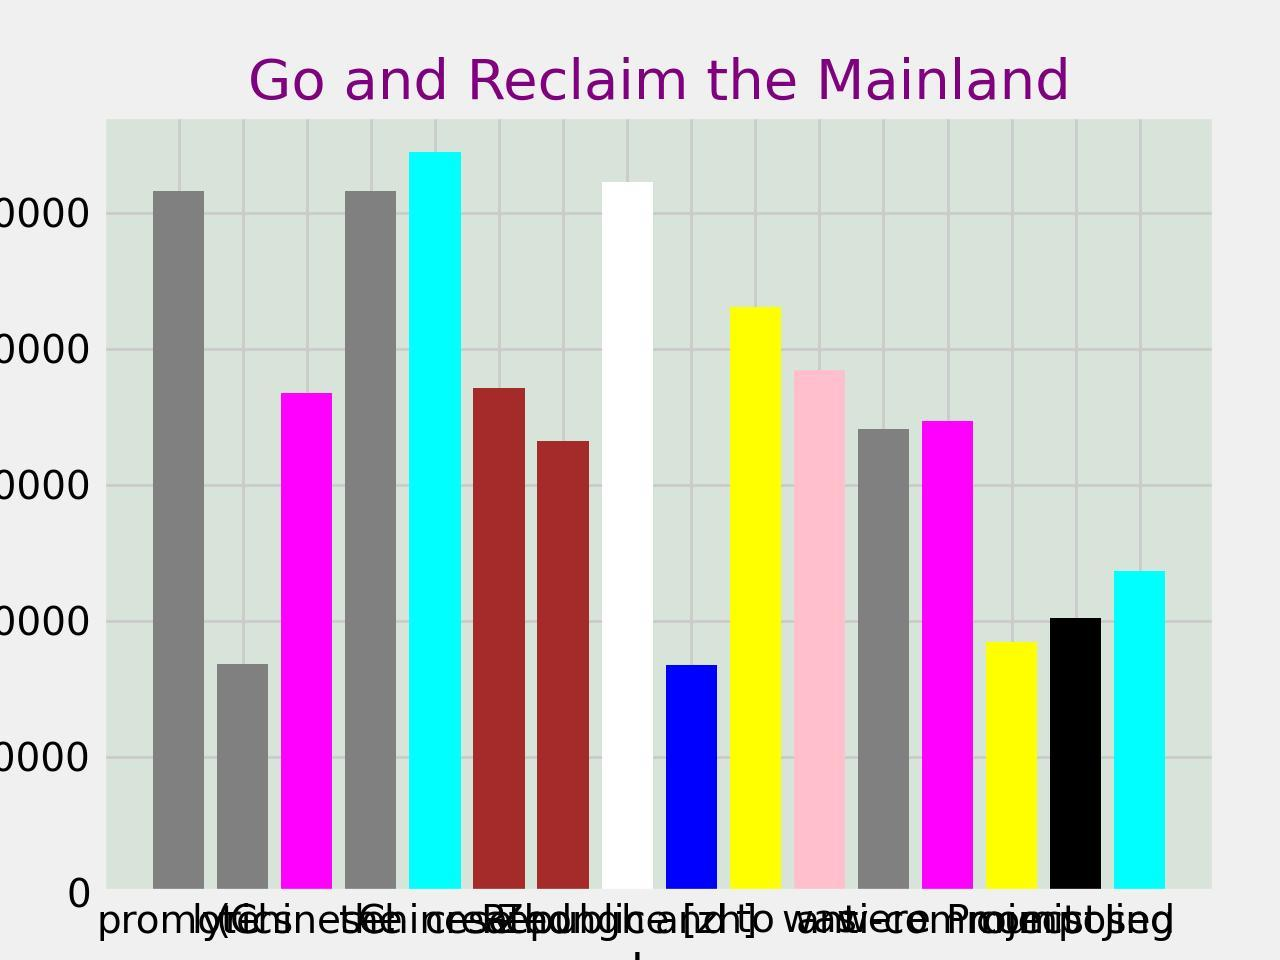axis: (0, 198, 91, 916)
rectangle: (409, 152, 461, 893), (602, 182, 652, 892), (346, 191, 396, 893), (153, 192, 204, 892), (730, 307, 781, 892), (794, 369, 845, 892), (281, 393, 333, 892), (474, 388, 524, 893), (858, 429, 909, 893), (922, 421, 973, 893), (537, 441, 589, 893), (1115, 572, 1165, 892), (1050, 618, 1101, 892), (986, 641, 1037, 892), (217, 664, 268, 893), (665, 665, 717, 893)
